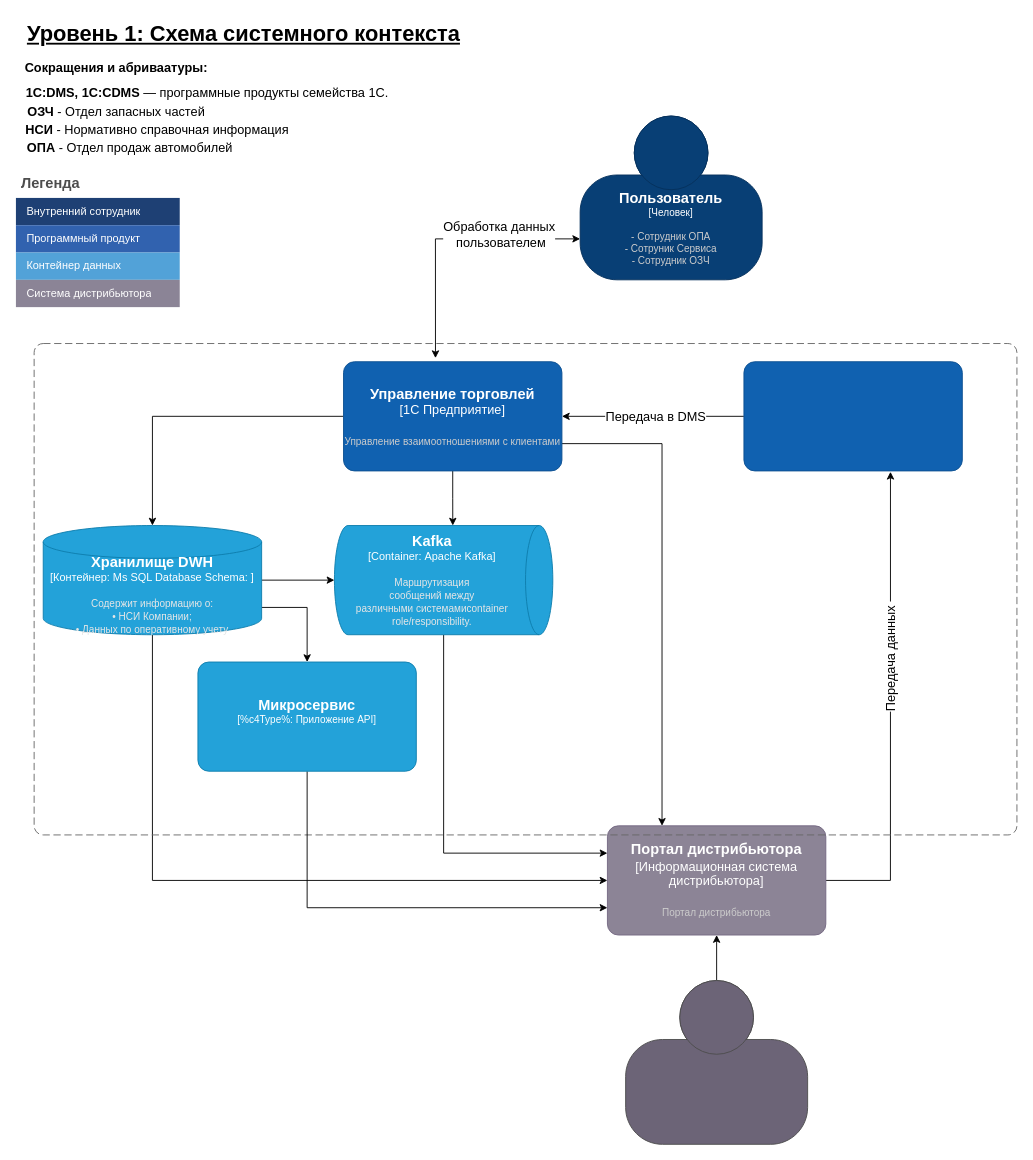
Some shapes in this 1033 by 1160 pixel diagram are drawn without their labels. Each missing label, with the box of its shape:
CDMS [1С Предприятие] Система централизованного управления НСИ компании: (743, 361, 962, 471)
Информационные системы КЛЮЧАВТО [Программная система]: (33, 343, 1017, 835)
Клиент [Человек] Обращение на порталах: (625, 980, 808, 1144)
